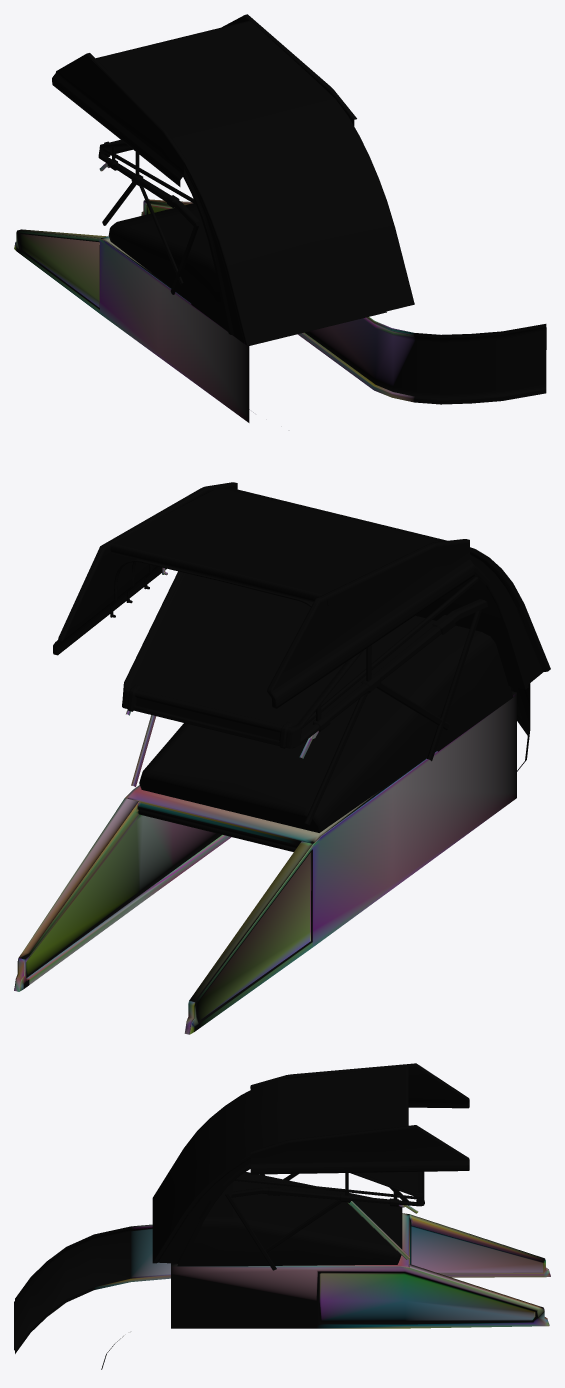
Rendered from CS_Stands_03.gltf.
The picture shows the model from 3 angles, top to bottom: view 1: azimuth 30°, elevation 25°; view 2: azimuth 150°, elevation 25°; view 3: azimuth 270°, elevation 25°; orthographic projection. The views are drawn at different scales.
Parts seen in each view (by area): view 1: CS_Stands_03; view 2: CS_Stands_03; view 3: CS_Stands_03.
Boxes of the visible parts, x1,y1,x2,y2 form: CS_Stands_03: (14,14,546,422); CS_Stands_03: (14,482,550,1034); CS_Stands_03: (14,1063,550,1369).
Size of the model in its own units: 97.07 by 88.21 by 207.
